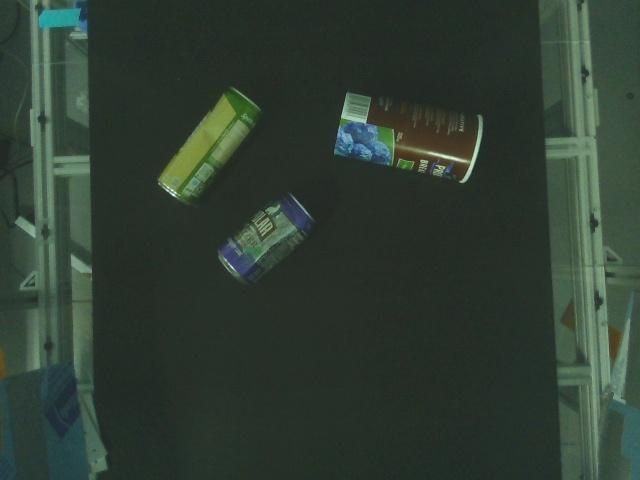cardboard: (331, 87, 487, 186)
metal: (153, 82, 267, 211), (213, 188, 320, 290)
